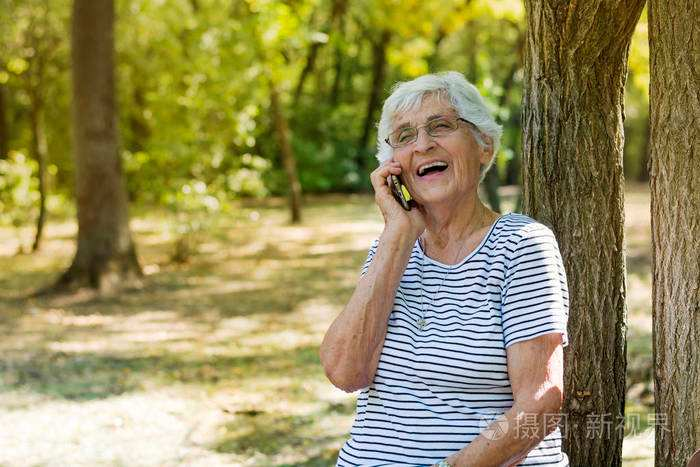calling: (366, 157, 429, 238)
